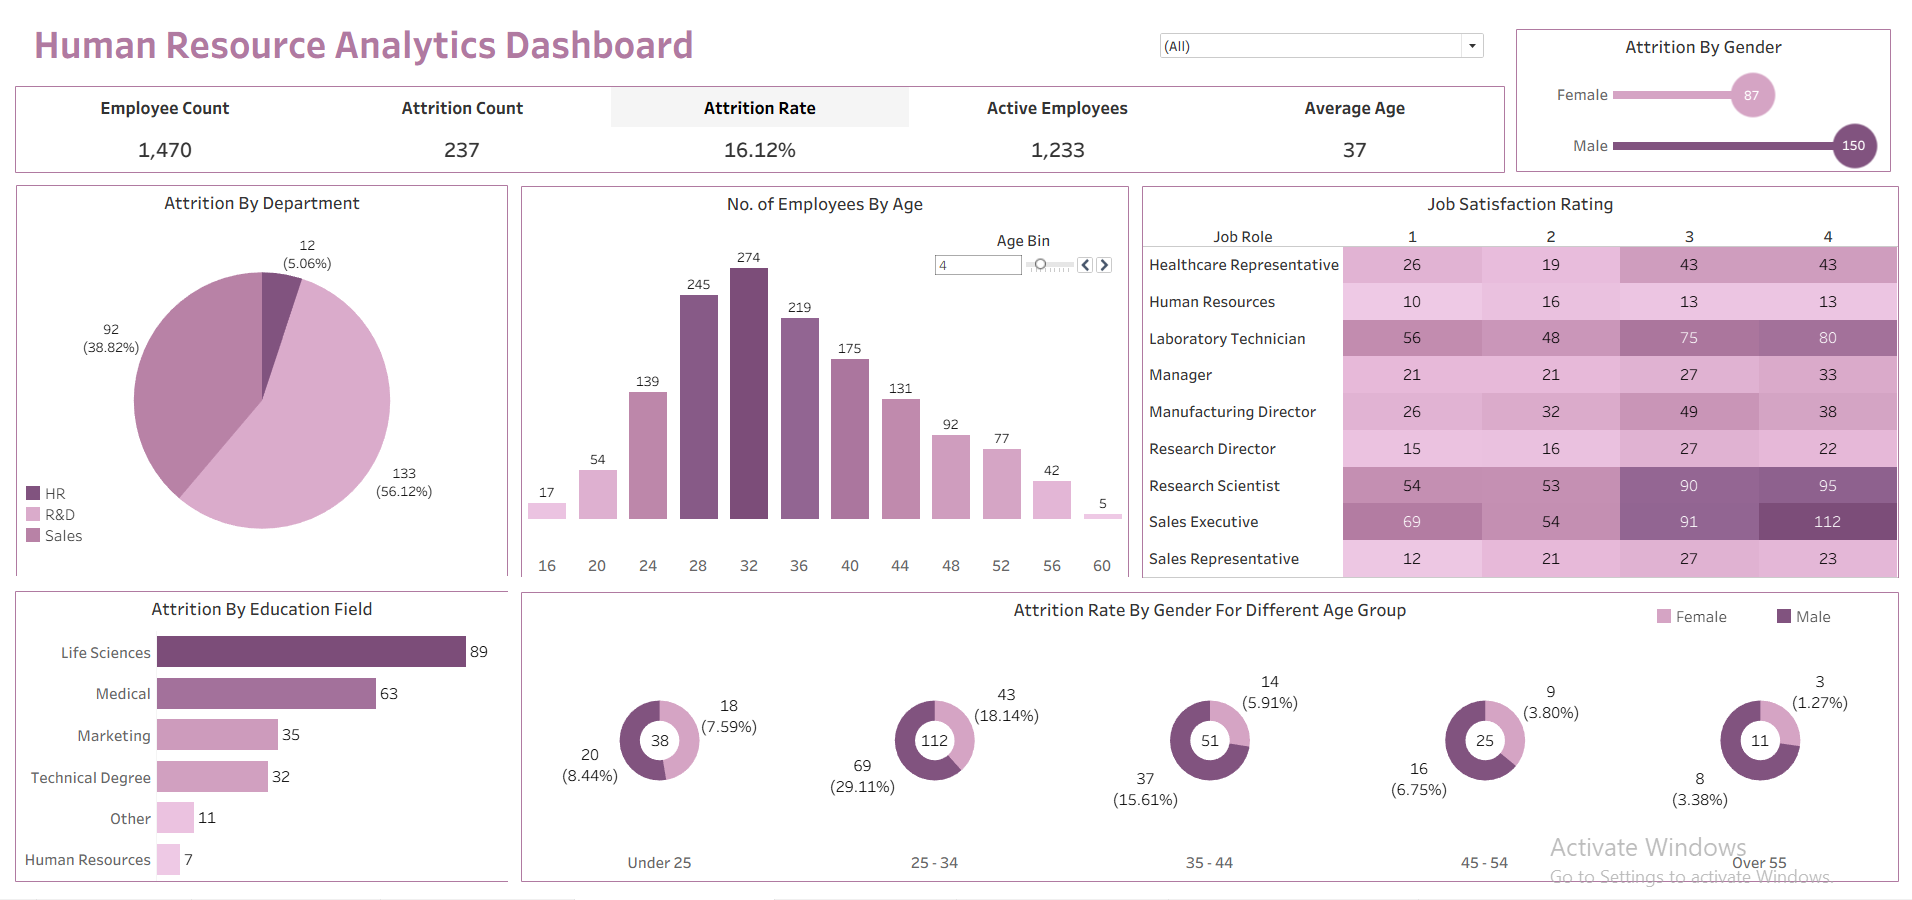

The dashboard page shown, as its layout file describes it:
{"tool":"tableau","page":{"name":"HR Analysis Dashboard","canvas":[1000,1000],"units":"permille","ordinal":0},"visuals":[{"type":"text","box":[17.5,22.5,449,62.4]},{"type":"worksheet","title":"Attrition By Gender","mark":"Automatic","rows":["Gender"],"cols":["Calculation_0587438787493888","Calculation_0587438787493888"],"box":[791.8,37.5,195.5,158.6]},{"type":"filter","title":"Attrition By Department","param":"[federated.1rwat9z0kt1p9a1cu1jw0040ipng].[none:Education:nk]","box":[604.7,38.7,172,46.2]},{"type":"worksheet","title":"KPI","mark":"Automatic","box":[9.7,101.1,776.1,96.1]},{"type":"worksheet","title":"Attrition By Department","mark":"Pie","box":[10.3,209.7,256.5,433.2]},{"type":"worksheet","title":"No. of Employees By Age","mark":"Automatic","rows":["Employee Count"],"cols":["Age (bin)"],"box":[273.4,211,316.8,433.2]},{"type":"worksheet","title":"Job Satisfaction Rating","mark":"Square","rows":["Job Role"],"cols":["Job Satisfaction"],"box":[596.9,211,394.1,434.5]},{"type":"parameter","param":"[Parameters].[Parameter 1]","box":[487.6,259.7,95.4,63.7]},{"type":"legend","title":"Attrition By Department","param":"[federated.1rwat9z0kt1p9a1cu1jw0040ipng].[none:Department:nk]","box":[13.9,539.3,84.5,106.1]},{"type":"worksheet","title":"Attrition By Education Field","mark":"Automatic","rows":["Education Field"],"cols":["Calculation_0587438787493888"],"box":[9.7,659.2,257.1,322.1]},{"type":"worksheet","title":"Attrition Rate By Gender For Different Age Group","mark":"Pie","rows":["Calculation_1403826506448899","Calculation_1403826506448899"],"cols":["CF_age band"],"box":[273.4,660.4,717.6,320.9]}]}

Visuals, with their boxes on the dashboard's canvas, which has no fixed pixel size, in thousandths of its width and height (x1, y1, x2, y2). These are canvas units, not pixel positions in the 1912x900 screenshot, which may show the page scaled, cropped or inside an application window:
text: [18,22,466,85]
"Attrition By Gender" worksheet: [792,38,987,196]
"Attrition By Department" filter: [605,39,777,85]
"KPI" worksheet: [10,101,786,197]
"Attrition By Department" worksheet (Pie marks): [10,210,267,643]
"No. of Employees By Age" worksheet: [273,211,590,644]
"Job Satisfaction Rating" worksheet (Square marks): [597,211,991,646]
parameter: [488,260,583,323]
"Attrition By Department" legend: [14,539,98,645]
"Attrition By Education Field" worksheet: [10,659,267,981]
"Attrition Rate By Gender For Different Age Group" worksheet (Pie marks): [273,660,991,981]
